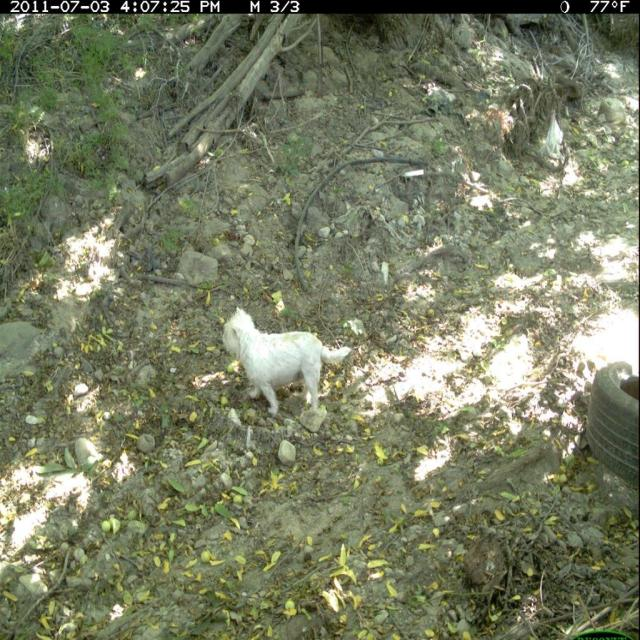dog: (216, 299, 358, 441)
